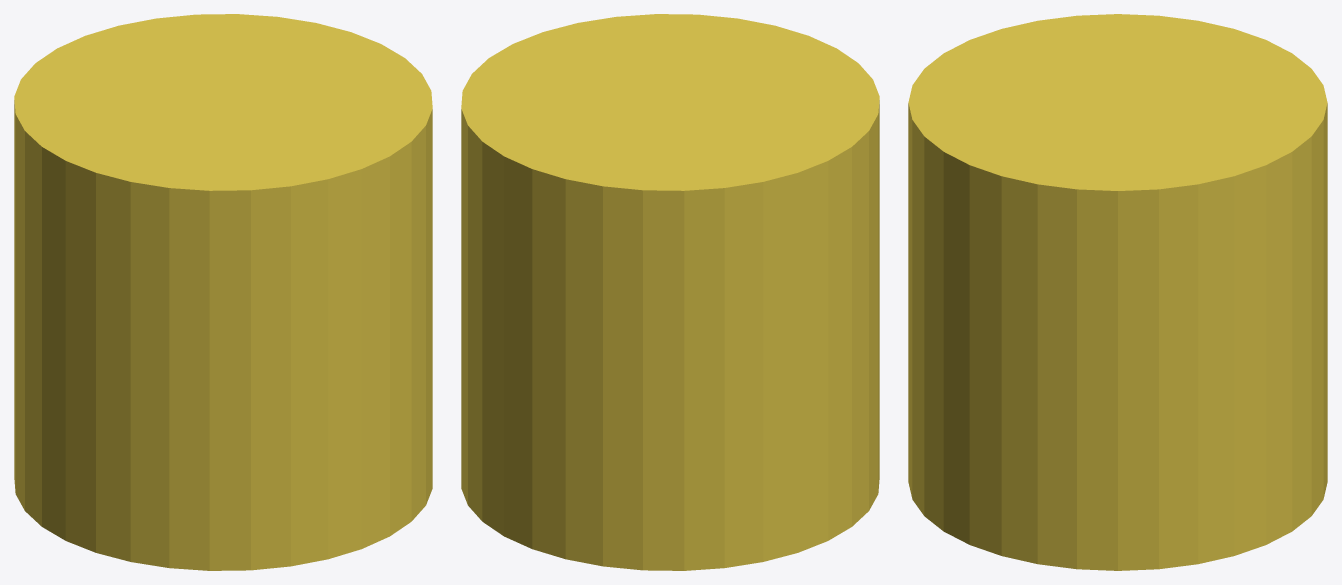
The model's file is davidConeA2.gltf.
3 views of the same model, side by side, from view 1: azimuth 30°, elevation 25°; view 2: azimuth 150°, elevation 25°; view 3: azimuth 270°, elevation 25° (orthographic).
Visible parts, largest first — view 1: davidConeA2; view 2: davidConeA2; view 3: davidConeA2.
Part boxes in pixels (x1,y1,x2,y2): davidConeA2: (14,14,432,570); davidConeA2: (461,14,879,570); davidConeA2: (908,14,1327,570).
Bounding box in the file's own units: 0.3711 × 0.3711 × 0.3711.
